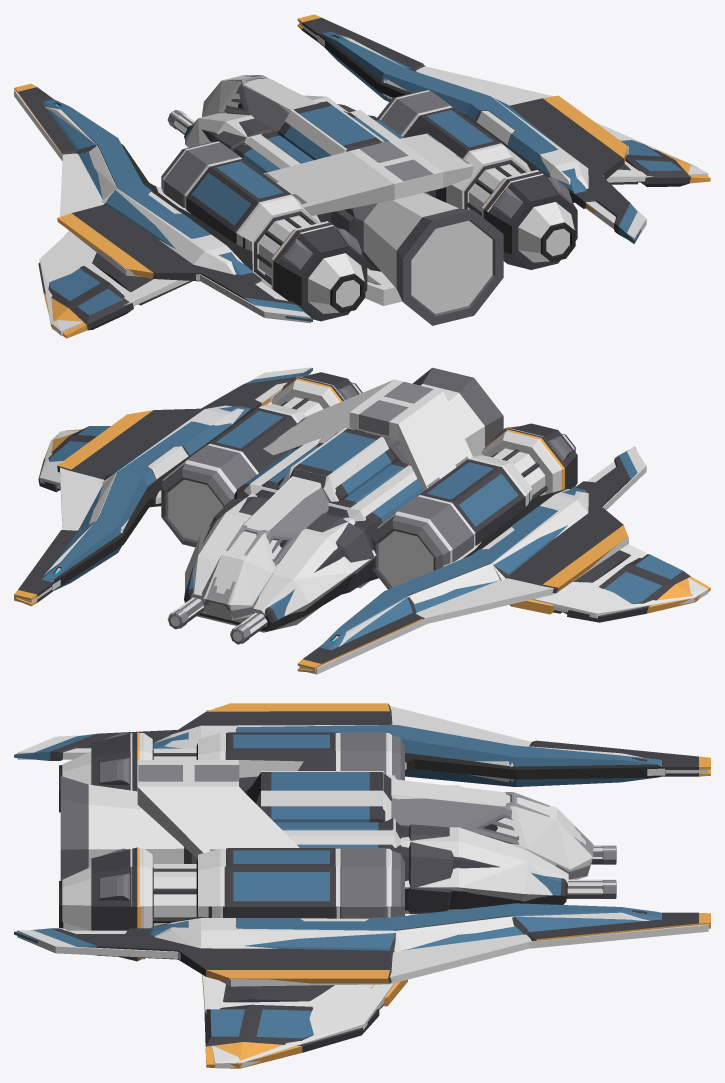
File: SM_Ship_Bomber_04.fbx
The picture shows the model from 3 angles, top to bottom: view 1: azimuth 30°, elevation 25°; view 2: azimuth 150°, elevation 25°; view 3: azimuth 270°, elevation 25°; orthographic projection. The views are drawn at different scales.
Visible parts, largest first — view 1: SM_Ship_Bomber_04_LOD0, SM_Ship_Bomber_04_ConvexHulls; view 2: SM_Ship_Bomber_04_LOD0, SM_Ship_Bomber_04_ConvexHulls; view 3: SM_Ship_Bomber_04_LOD0, SM_Ship_Bomber_04_ConvexHulls.
Boxes of the visible parts, x1,y1,x2,y2 form: SM_Ship_Bomber_04_LOD0: (14, 14, 710, 338); SM_Ship_Bomber_04_ConvexHulls: (14, 22, 708, 335); SM_Ship_Bomber_04_LOD0: (14, 367, 710, 672); SM_Ship_Bomber_04_ConvexHulls: (14, 367, 708, 674); SM_Ship_Bomber_04_LOD0: (14, 703, 710, 1068); SM_Ship_Bomber_04_ConvexHulls: (17, 706, 708, 1068).
Size of the model in its own units: 2105 by 2542 by 490.
Materials: 1 (1 with a texture image).
